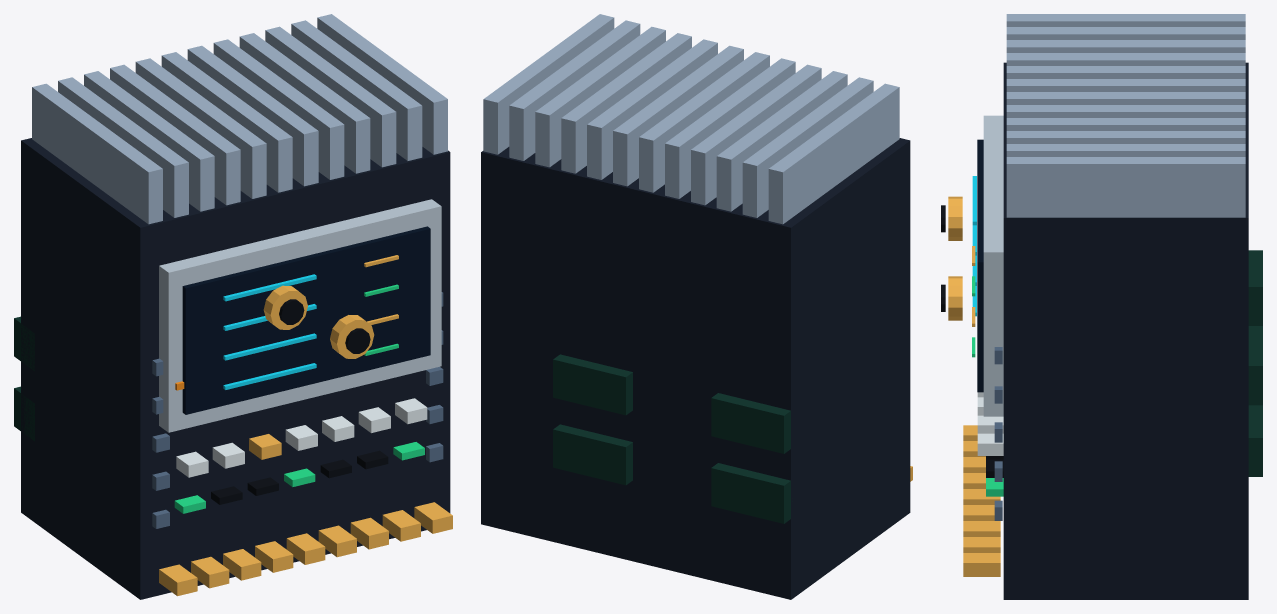
File: 87_L91_ObservatoryThermalRadiator.fbx
3 renders of one model, left to right at view 1: azimuth 30°, elevation 25°; view 2: azimuth 150°, elevation 25°; view 3: azimuth 270°, elevation 25°, orthographic. The views are drawn at different scales.
Parts seen in each view (by area): view 1: L91_ObservatoryThermalRadiator, L91_ObservatoryThermalRadiator_Part_0012, L91_ObservatoryThermalRadiator_Part_0014; view 2: L91_ObservatoryThermalRadiator; view 3: L91_ObservatoryThermalRadiator, L91_ObservatoryThermalRadiator_Part_0012, L91_ObservatoryThermalRadiator_Part_0014.
Part boxes in pixels (x1,y1,x2,y2): L91_ObservatoryThermalRadiator: (14,14,452,599); L91_ObservatoryThermalRadiator_Part_0012: (263,285,307,329); L91_ObservatoryThermalRadiator_Part_0014: (330,315,374,358); L91_ObservatoryThermalRadiator: (481,14,912,599); L91_ObservatoryThermalRadiator: (963,14,1262,599); L91_ObservatoryThermalRadiator_Part_0012: (948,196,962,240); L91_ObservatoryThermalRadiator_Part_0014: (948,276,962,320).
Bounding box in the file's own units: 108 × 141 × 94.29.
